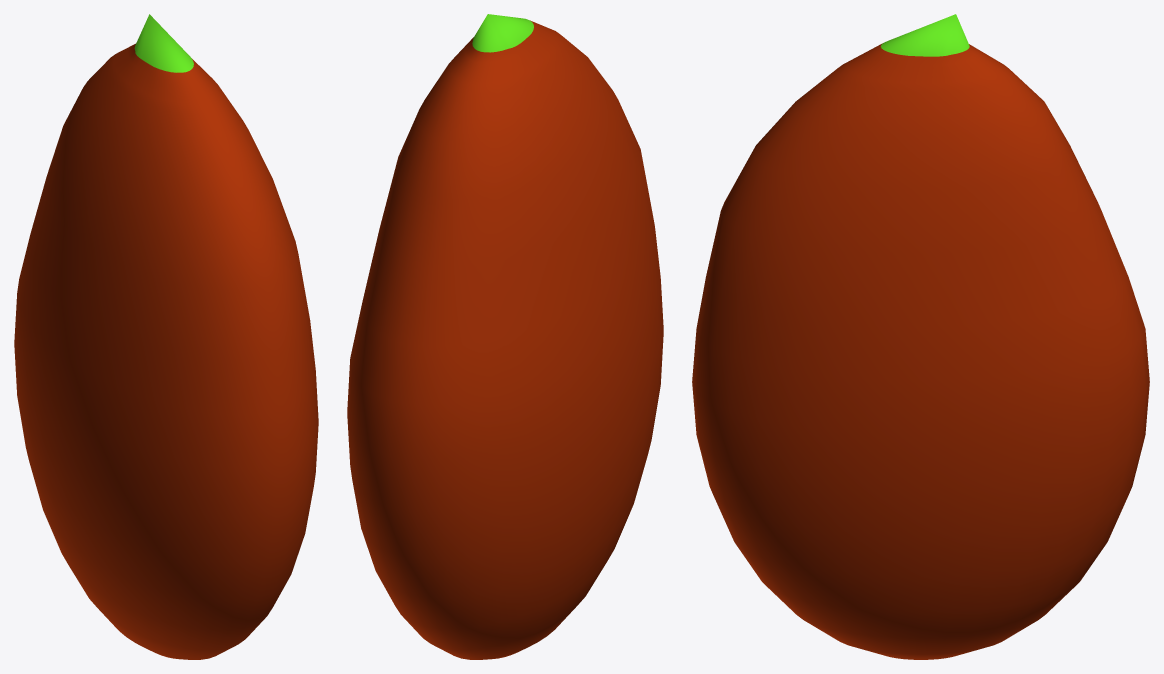
File: seed.fbx
3 views of the same model, side by side, from view 1: azimuth 30°, elevation 25°; view 2: azimuth 150°, elevation 25°; view 3: azimuth 270°, elevation 25° (orthographic). The views are drawn at different scales.
Visible parts, largest first — view 1: Sphere; view 2: Sphere; view 3: Sphere.
Boxes of the visible parts, <box> form: Sphere: <box>14,14,318,659</box>; Sphere: <box>347,14,663,659</box>; Sphere: <box>692,14,1149,659</box>.
Size of the model in its own units: 45.76 by 130 by 84.24.
